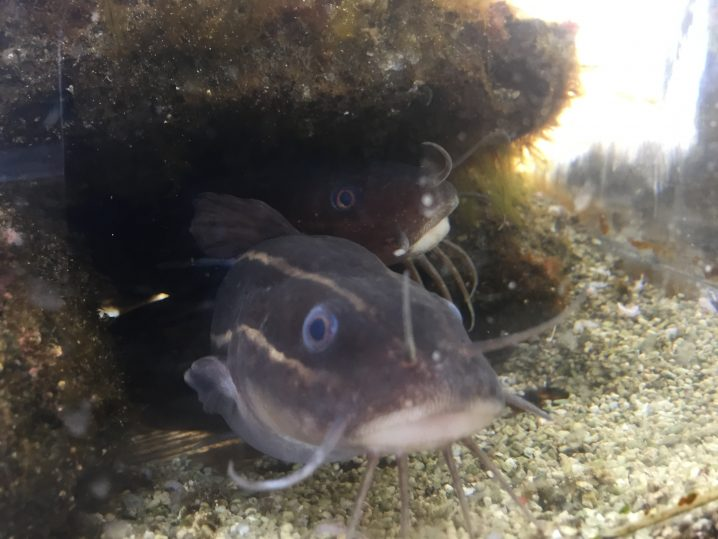gonzui: (171, 215, 542, 506)
